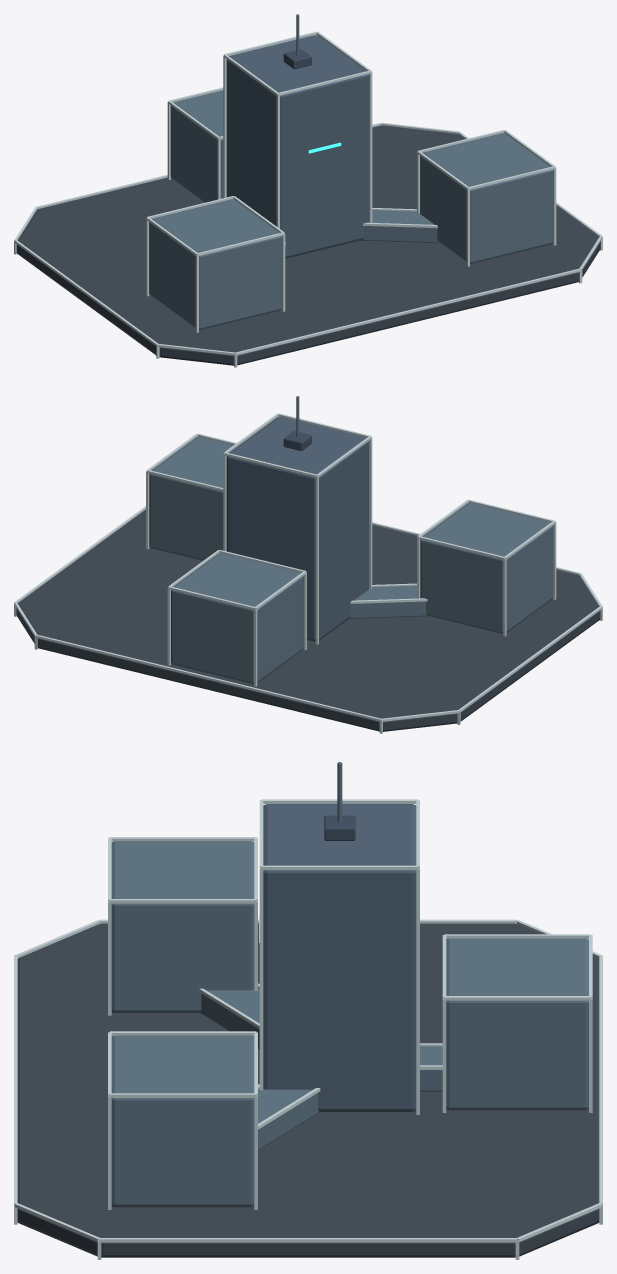
File: skill-aws-v1.glb
The picture shows the model from 3 angles, top to bottom: view 1: azimuth 30°, elevation 25°; view 2: azimuth 150°, elevation 25°; view 3: azimuth 270°, elevation 25°; orthographic projection. The views are drawn at different scales.
Parts seen in each view (by area): view 1: skill-aws-v1__mesh-ground__001, skill-aws-v1__mesh-structure-mid__001, skill-aws-v1__mesh-structure-dark__001, skill-aws-v1__technical-lines__001; view 2: skill-aws-v1__mesh-ground__001, skill-aws-v1__mesh-structure-mid__001, skill-aws-v1__mesh-structure-dark__001, skill-aws-v1__technical-lines__001; view 3: skill-aws-v1__mesh-ground__001, skill-aws-v1__mesh-structure-mid__001, skill-aws-v1__mesh-structure-dark__001, skill-aws-v1__technical-lines__001, skill-aws-v1__mesh-roof__001.
Part boxes in pixels (x1,y1,x2,y2): skill-aws-v1__mesh-ground__001: [16, 125, 600, 365]; skill-aws-v1__mesh-structure-mid__001: [149, 14, 553, 330]; skill-aws-v1__mesh-structure-dark__001: [226, 35, 368, 258]; skill-aws-v1__technical-lines__001: [14, 31, 602, 367]; skill-aws-v1__mesh-ground__001: [16, 510, 600, 731]; skill-aws-v1__mesh-structure-mid__001: [149, 396, 553, 684]; skill-aws-v1__mesh-structure-dark__001: [226, 417, 368, 641]; skill-aws-v1__technical-lines__001: [14, 413, 602, 733]; skill-aws-v1__mesh-ground__001: [17, 923, 599, 1257]; skill-aws-v1__mesh-structure-mid__001: [111, 762, 588, 1207]; skill-aws-v1__mesh-structure-dark__001: [263, 804, 416, 1111]; skill-aws-v1__technical-lines__001: [14, 799, 602, 1259]; skill-aws-v1__mesh-roof__001: [324, 815, 355, 840].
Bounding box in the file's own units: 36.17 × 17.8 × 28.17.
